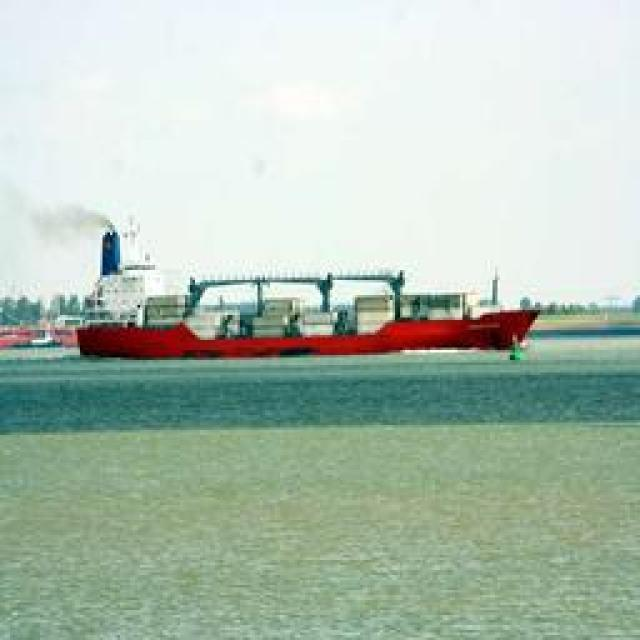CIV_Ship: (71, 286, 539, 362)
